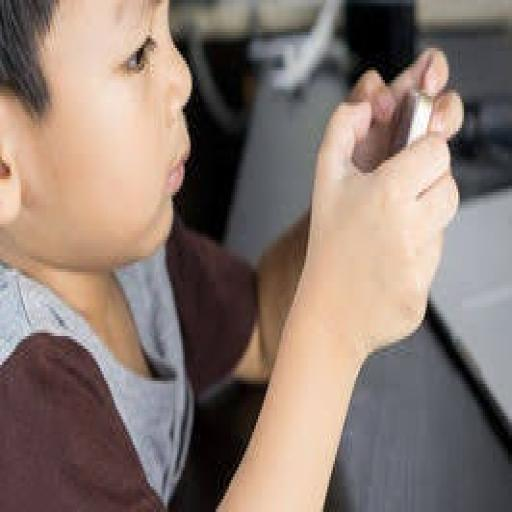texting: (2, 0, 464, 506)
